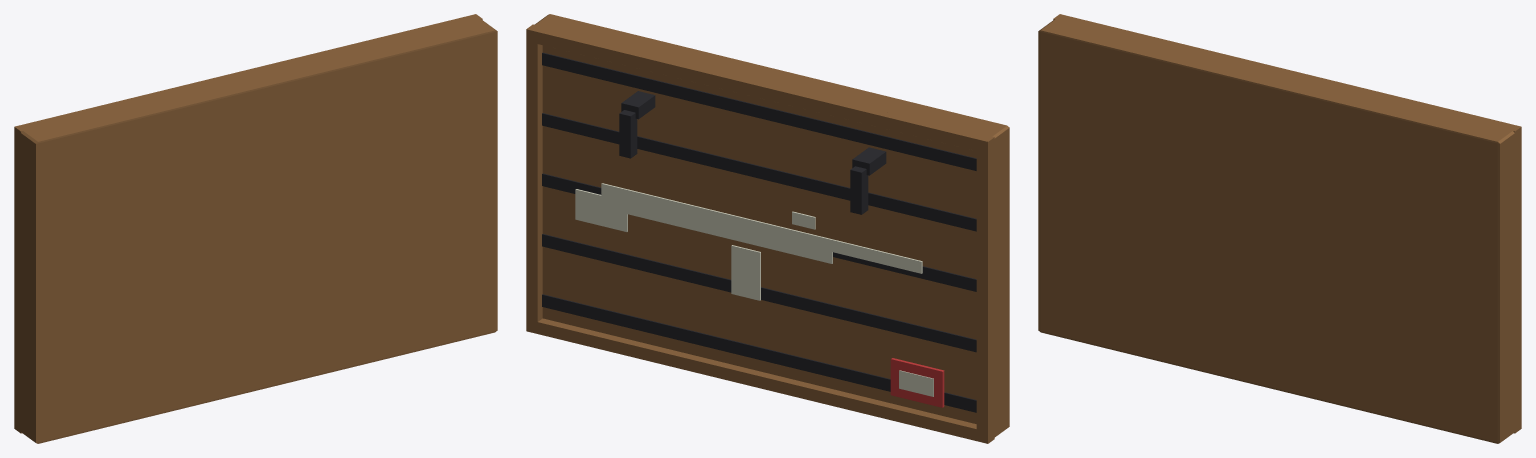
Rendered from wallbuy_panel.obj.
3 views of the same model, side by side, from view 1: azimuth 30°, elevation 25°; view 2: azimuth 150°, elevation 25°; view 3: azimuth 330°, elevation 25° (orthographic).
Visible parts, largest first — view 1: Wallbuy; view 2: Wallbuy; view 3: Wallbuy.
Part boxes in pixels (box(x1,y1,x2,y2)): Wallbuy: box(14, 14, 497, 443); Wallbuy: box(526, 14, 1009, 443); Wallbuy: box(1038, 14, 1521, 443).
Bounding box in the file's own units: 1.6 × 1 × 0.23.
